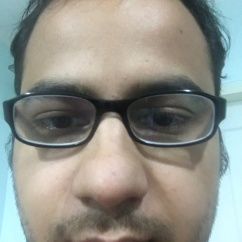glasses: (9, 89, 236, 146)
